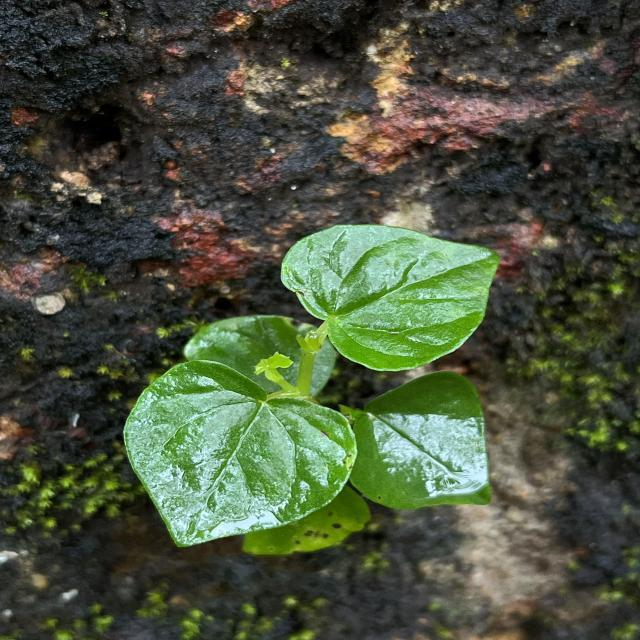Peperomia pellucida: (120, 358, 360, 549), (278, 223, 502, 373)
